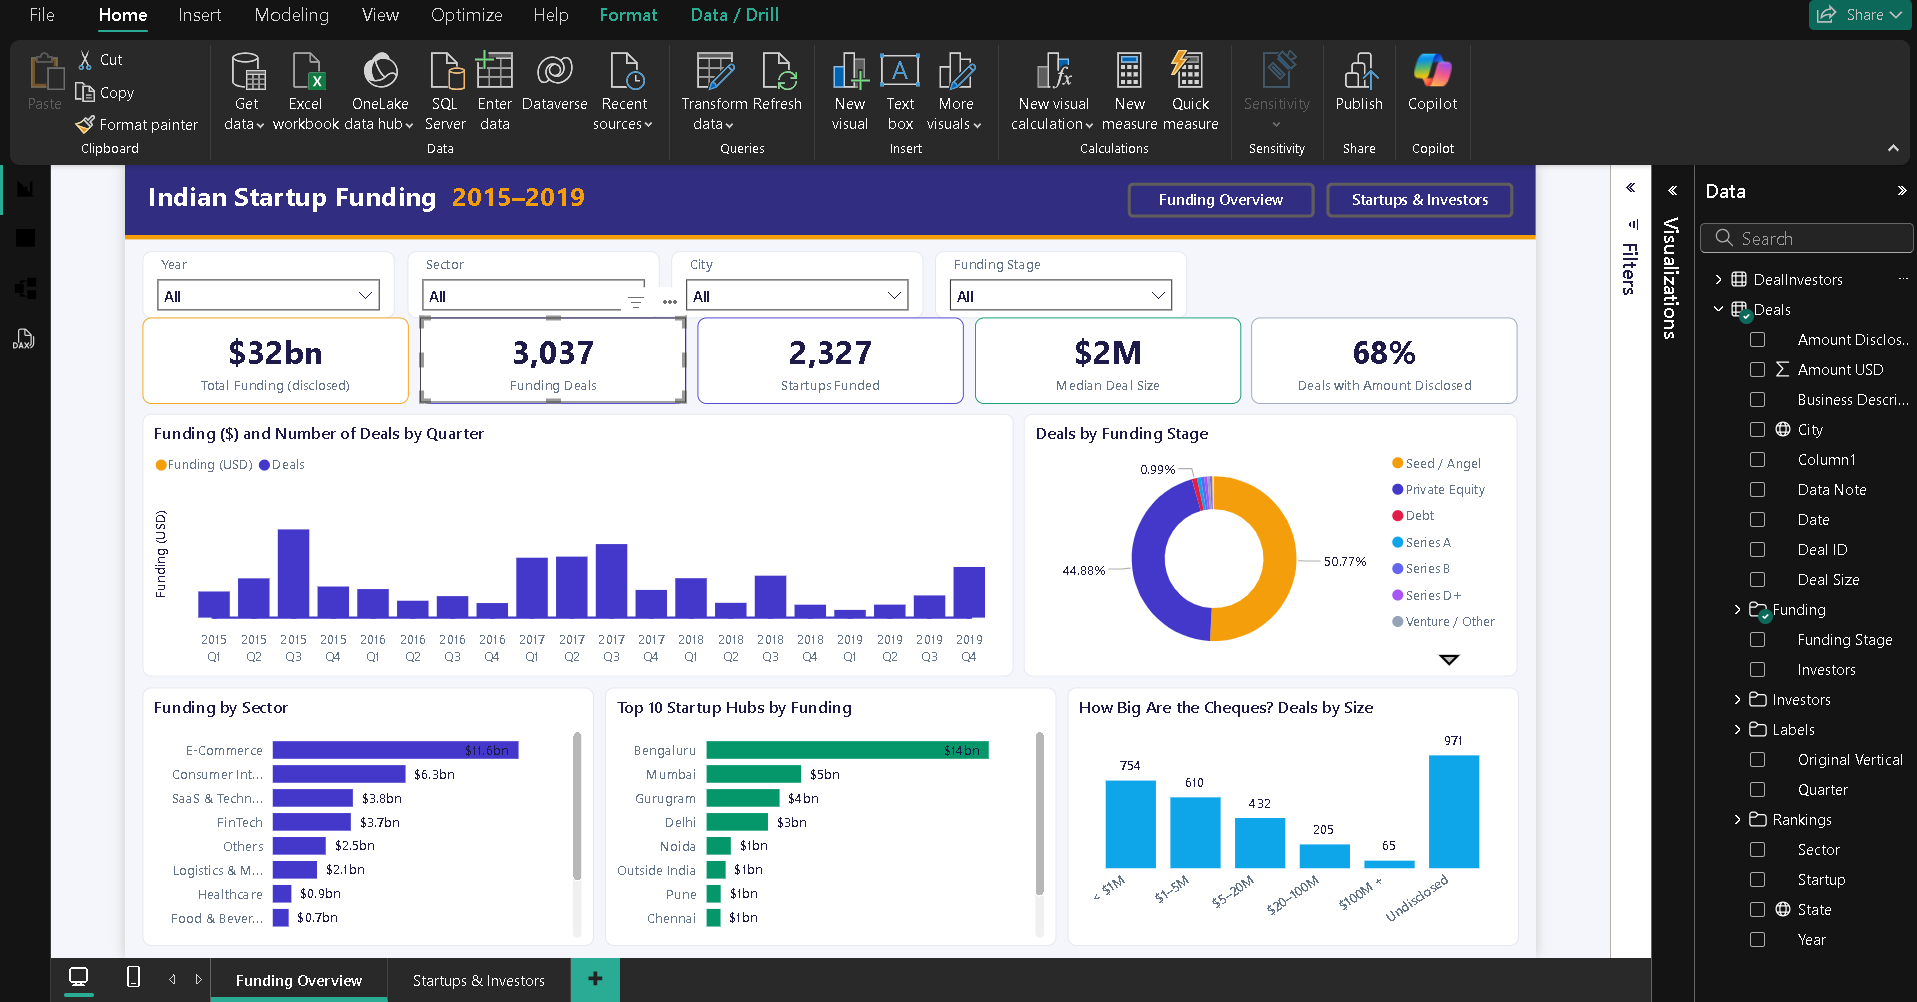

The dashboard page shown, as its layout file describes it:
{"tool":"powerbi","page":{"name":"Funding Overview","canvas":[1280,720],"ordinal":0},"visuals":[{"type":"shape","box":[0,0,1280,64],"z":1000},{"type":"shape","box":[0,64,1280,4],"z":2000},{"type":"textbox","box":[16.3,5.8,659.3,58.1],"z":3000},{"type":"actionButton","box":[910,16,170,32],"z":5000},{"type":"actionButton","box":[1090,16,170,32],"z":6000},{"type":"slicer","fields":{"Values":["Deals.Year"]},"box":[16.3,77.9,229.1,60.5],"z":7000},{"type":"slicer","fields":{"Values":["Deals.Sector"]},"box":[255.8,77.9,229.1,60.5],"z":8000},{"type":"slicer","fields":{"Values":["Deals.City"]},"box":[495.4,77.9,229.1,60.5],"z":9000},{"type":"slicer","fields":{"Values":["Deals.Funding Stage"]},"box":[734.9,77.9,229.1,60.5],"z":10000},{"type":"card","fields":{"Values":["Deals.Total Funding"]},"box":[16,138,241.6,78],"z":12000},{"type":"card","fields":{"Values":["Deals.Deals"]},"box":[267.6,138,241.6,78],"z":13000},{"type":"card","fields":{"Values":["Deals.Startups Funded"]},"box":[519.2,138,241.6,78],"z":14000},{"type":"card","fields":{"Values":["Deals.Median Deal Size"]},"box":[770.8,138,241.6,78],"z":15000},{"type":"card","fields":{"Values":["Deals.Disclosed Deals %"]},"box":[1022.4,138,241.6,78],"z":16000},{"type":"lineClusteredColumnComboChart","title":"Funding ($) and Number of Deals by Quarter","fields":{"Category":["Deals.Quarter"],"Y":["Deals.Total Funding"],"Y2":["Deals.Deals"]},"box":[16,226,790,238],"z":17000},{"type":"donutChart","title":"Deals by Funding Stage","fields":{"Category":["Deals.Funding Stage"],"Y":["Deals.Deals"]},"box":[816,226,448,238],"z":18000},{"type":"clusteredBarChart","title":"Funding by Sector","fields":{"Category":["Deals.Sector"],"Y":["Deals.Total Funding"]},"box":[16,474,409.3,234],"z":19000},{"type":"clusteredBarChart","title":"Top 10 Startup Hubs by Funding","fields":{"Category":["Deals.City"],"Y":["Deals.Top 10 Cities by Funding"]},"box":[435.3,474,409.3,234],"z":20000},{"type":"clusteredColumnChart","title":"How Big Are the Cheques? Deals by Size","fields":{"Category":["Deals.Deal Size"],"Y":["Deals.Deals"]},"box":[854.7,474,409.3,234],"z":21000}]}

Visuals, with their boxes on the page's 1280x720 design canvas (x1, y1, x2, y2). These are canvas units, not pixel positions in the 1917x1002 screenshot, which may show the page scaled, cropped or inside an application window:
shape: [left=0, top=0, right=1280, bottom=64]
shape: [left=0, top=64, right=1280, bottom=68]
textbox: [left=16, top=6, right=676, bottom=64]
actionButton: [left=910, top=16, right=1080, bottom=48]
actionButton: [left=1090, top=16, right=1260, bottom=48]
slicer - Deals.Year: [left=16, top=78, right=245, bottom=138]
slicer - Deals.Sector: [left=256, top=78, right=485, bottom=138]
slicer - Deals.City: [left=495, top=78, right=724, bottom=138]
slicer - Deals.Funding Stage: [left=735, top=78, right=964, bottom=138]
card - Deals.Total Funding: [left=16, top=138, right=258, bottom=216]
card - Deals.Deals: [left=268, top=138, right=509, bottom=216]
card - Deals.Startups Funded: [left=519, top=138, right=761, bottom=216]
card - Deals.Median Deal Size: [left=771, top=138, right=1012, bottom=216]
card - Deals.Disclosed Deals %: [left=1022, top=138, right=1264, bottom=216]
"Funding ($) and Number of Deals by Quarter" lineClusteredColumnComboChart: [left=16, top=226, right=806, bottom=464]
"Deals by Funding Stage" donutChart: [left=816, top=226, right=1264, bottom=464]
"Funding by Sector" clusteredBarChart: [left=16, top=474, right=425, bottom=708]
"Top 10 Startup Hubs by Funding" clusteredBarChart: [left=435, top=474, right=845, bottom=708]
"How Big Are the Cheques? Deals by Size" clusteredColumnChart: [left=855, top=474, right=1264, bottom=708]
